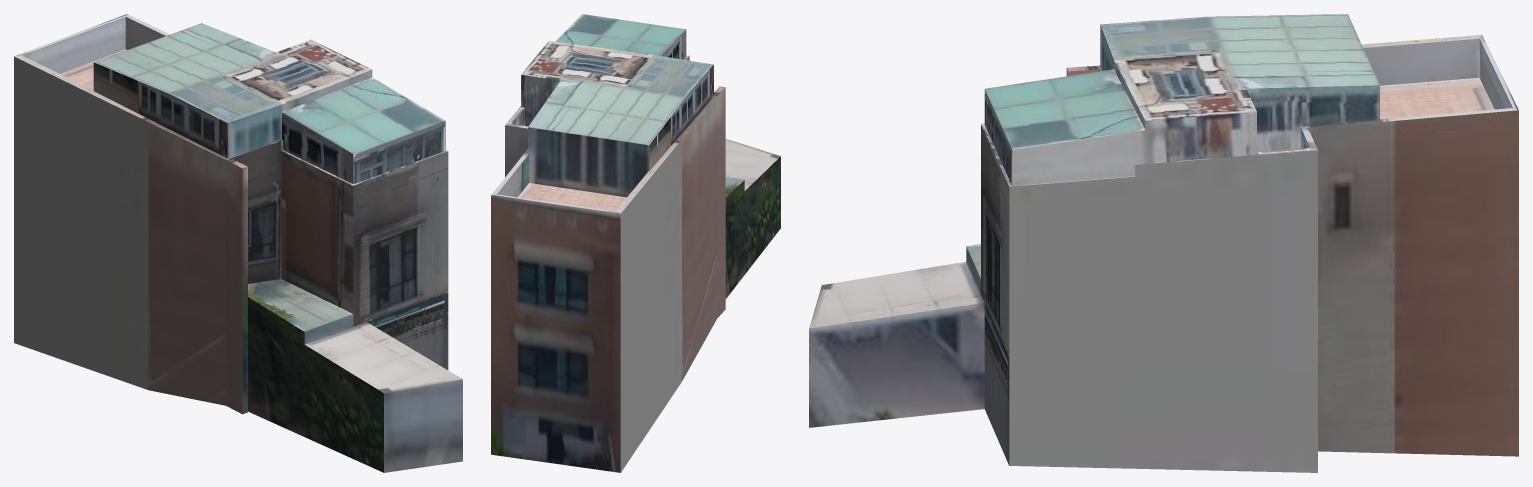
3 views of the same model, side by side, from view 1: azimuth 30°, elevation 25°; view 2: azimuth 150°, elevation 25°; view 3: azimuth 270°, elevation 25° (orthographic). The views are drawn at different scales.
Visible parts, largest first — view 1: B280944032801063A0; view 2: B280944032801063A0; view 3: B280944032801063A0.
Boxes of the visible parts, bbox=[...] form: B280944032801063A0: bbox=[14, 14, 462, 472]; B280944032801063A0: bbox=[491, 14, 780, 472]; B280944032801063A0: bbox=[809, 14, 1518, 472].
Size of the model in its own units: 8.63 by 11.15 by 18.43.
Materials: 1 (1 with a texture image).
